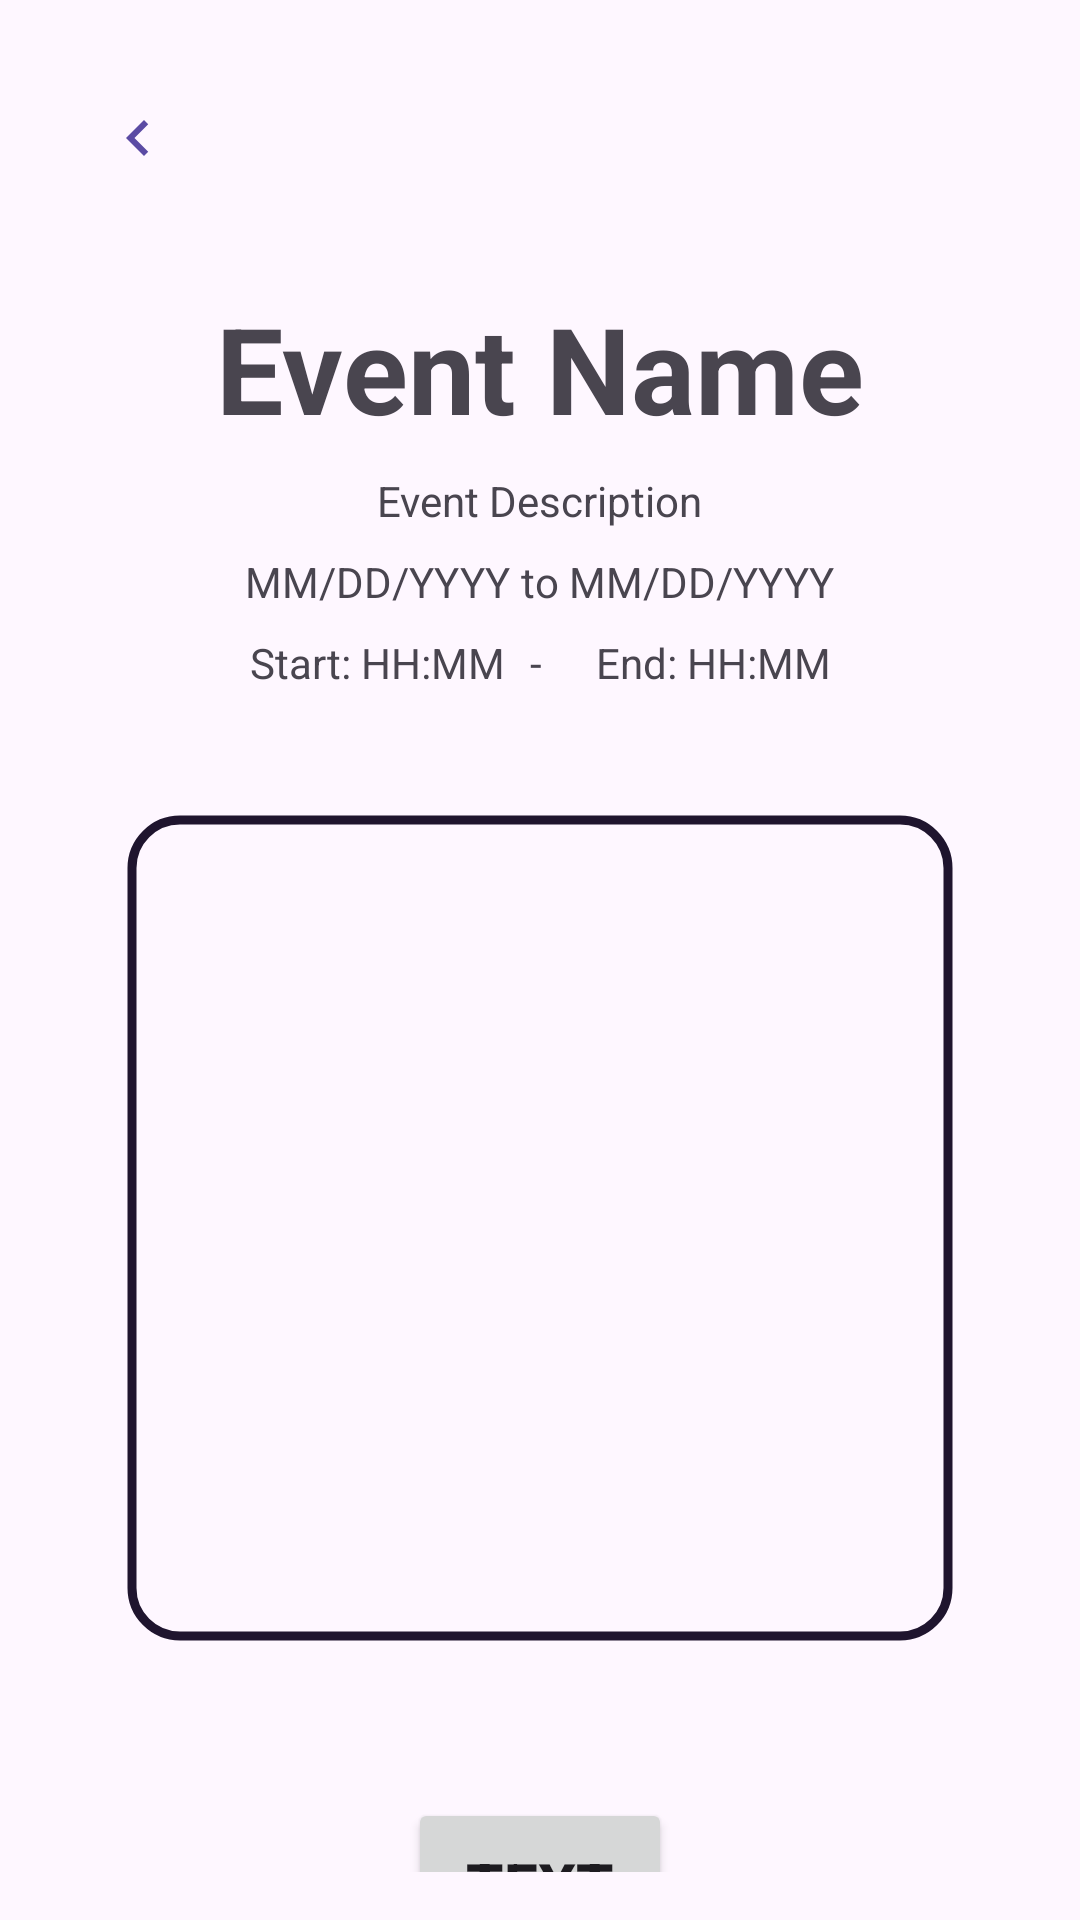

Icon click points for this 1080w x 1920h phone screenshot, format [x,y]:
Go Back: [137,138]
